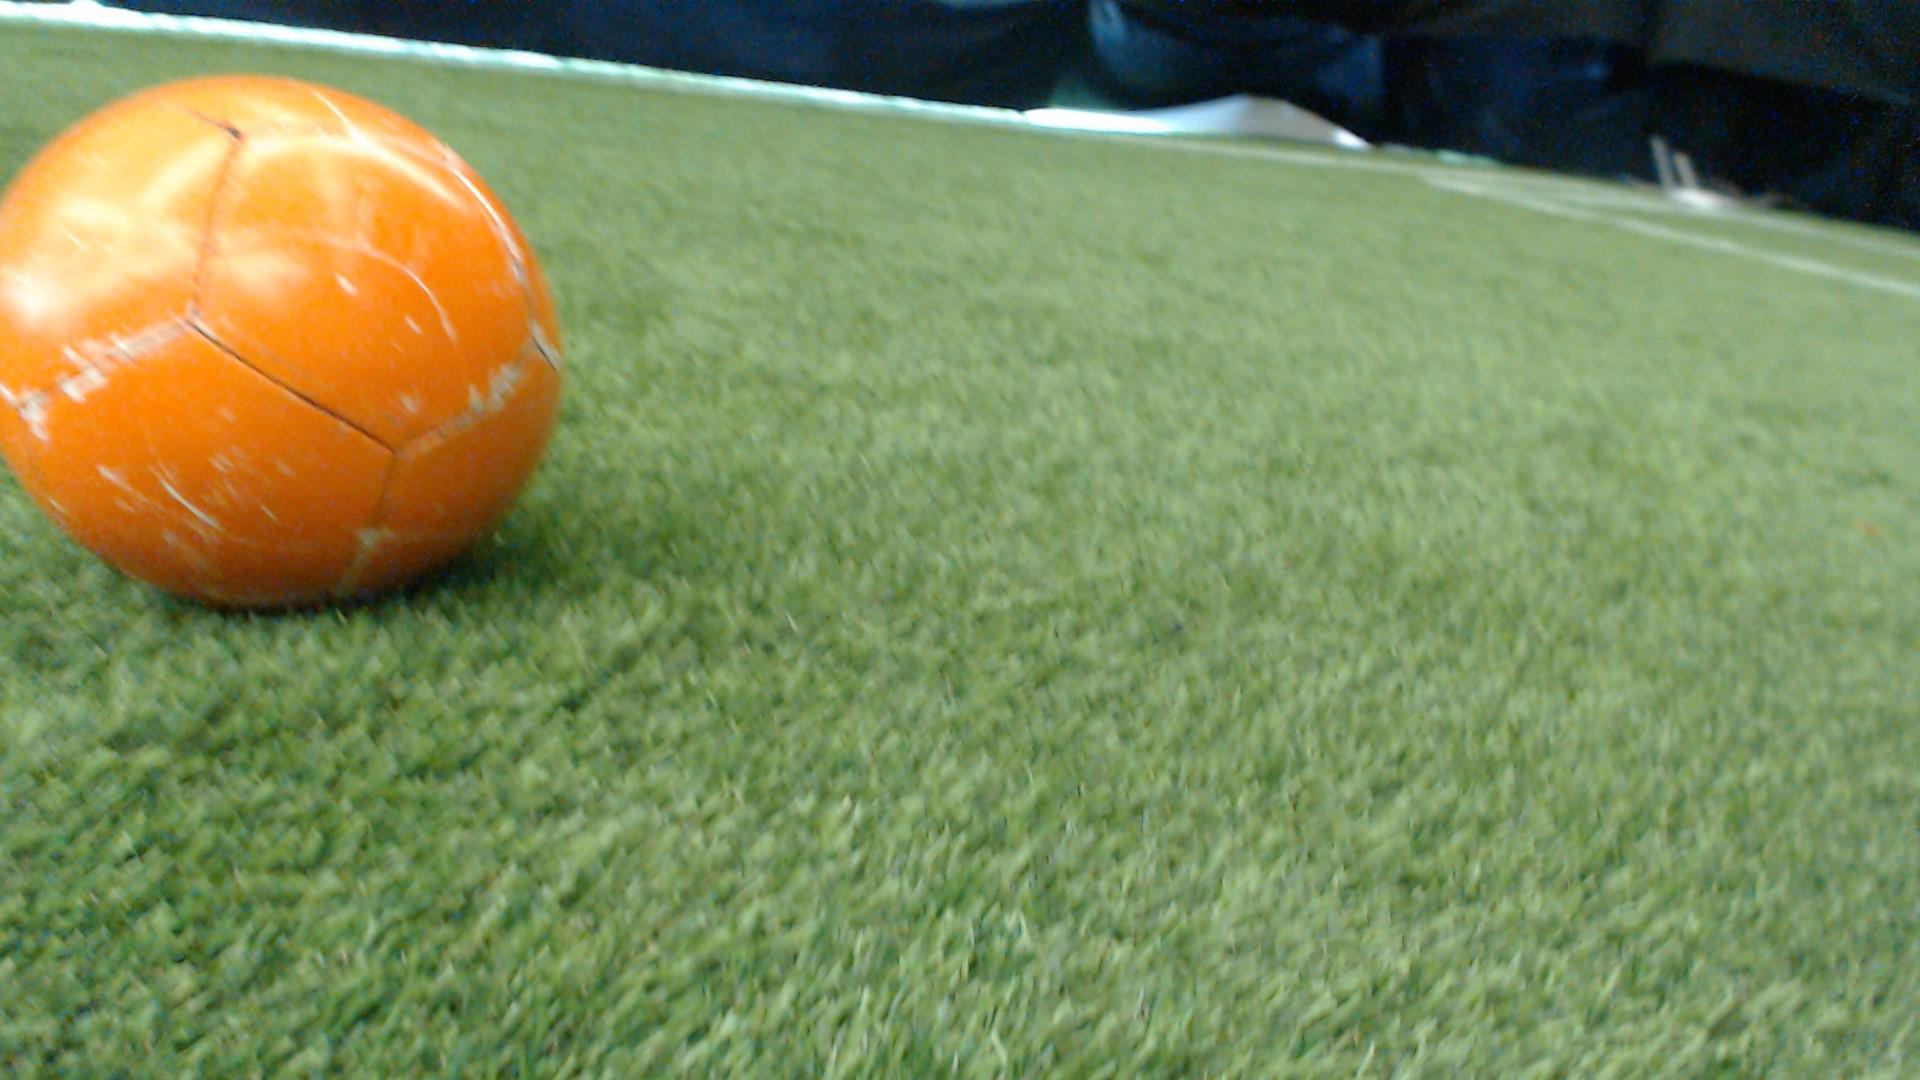bola: (0, 36, 617, 658)
